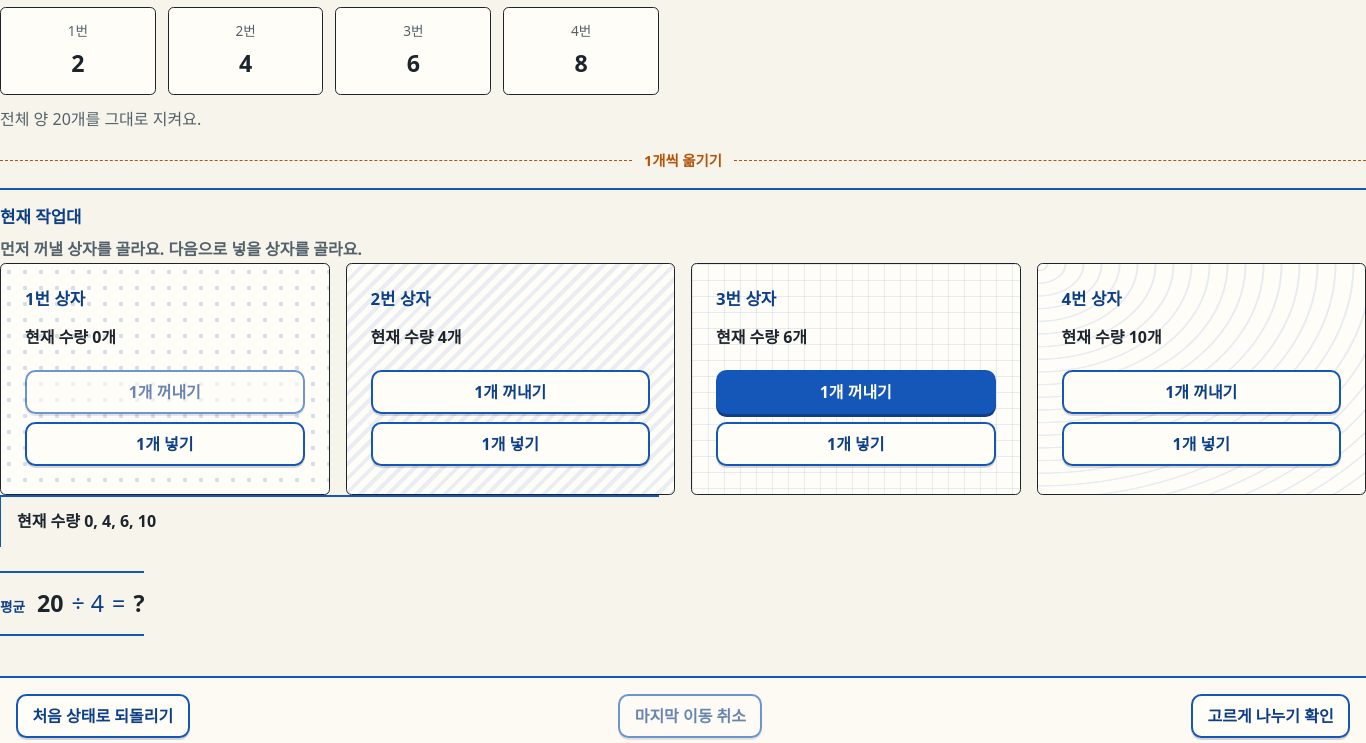
it: RedistributionPanel › disables empty sources and gives an actionable same-box prompt
This screenshot has width=1366, height=743.
(page scrolled)
Check: the button with aria-label "1번 상자에서 1개 꺼내기" is disabled, box [25,370,304,414]
Click the button with aria-label "2번 상자에서 1개 꺼내기" at (510,392), box [370,370,650,414]
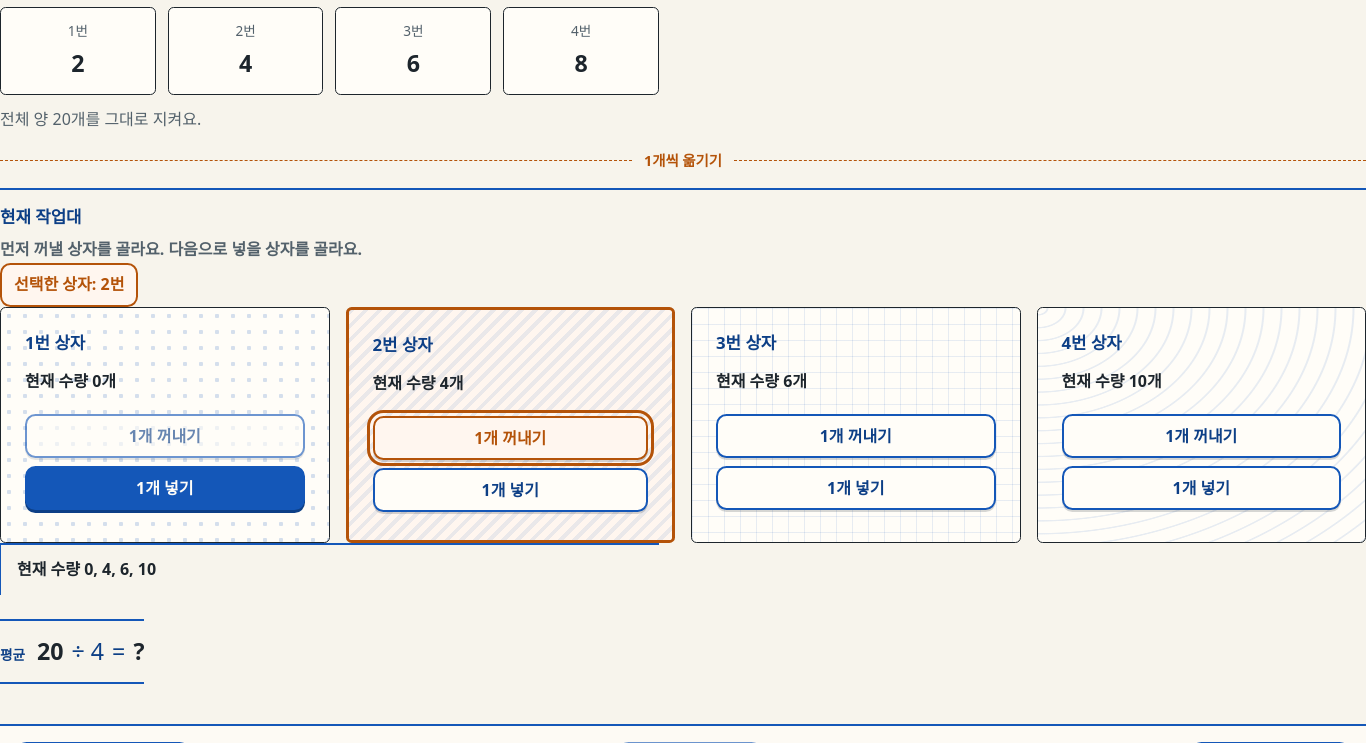
Click the button with aria-label "2번 상자에 1개 넣기" at (510,490), box [372,468,648,512]
(page scrolled)
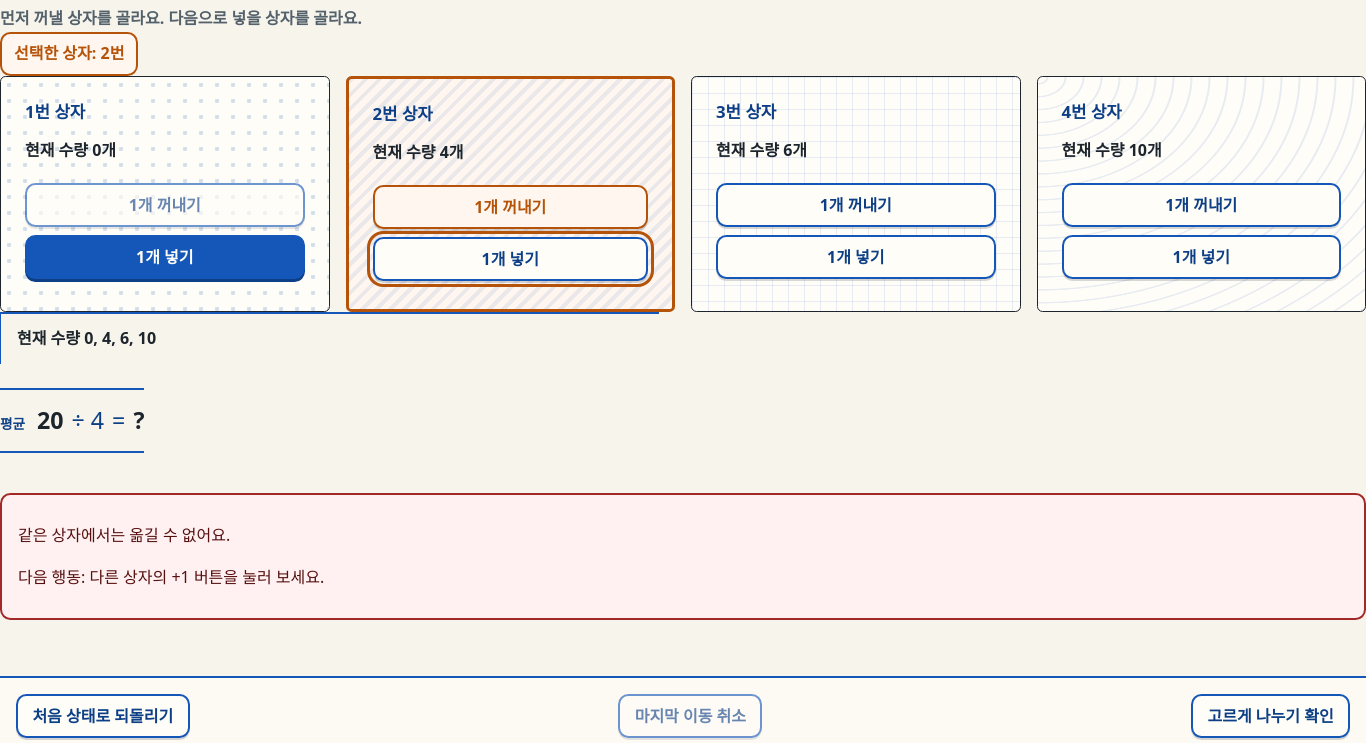
Check: the text "현재 수량 0, 4, 6, 10" is shown, box [0,312,659,364]
Check: the message shows "같은 상자에서는 옮길 수 없어요.", box [18,524,230,546]
Check: the message shows "다른 상자의 +1 버튼을 눌러 보세요.", box [90,566,324,588]
